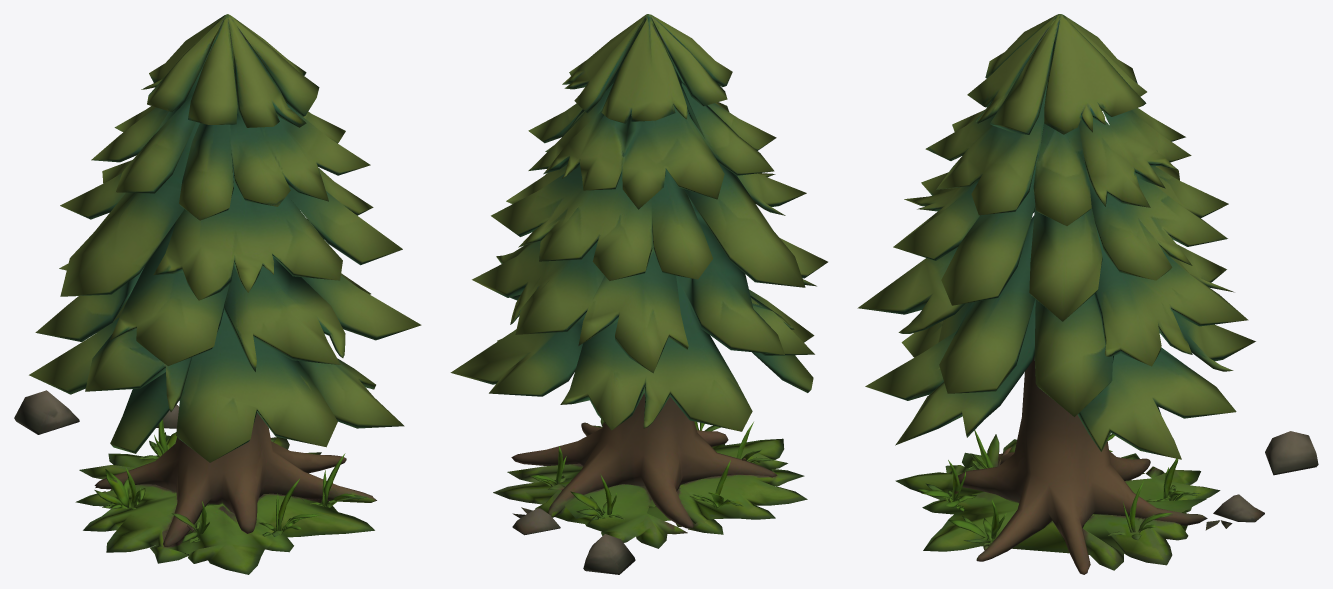
Rendered from SM_Vegetation_StylizedPineTree_01.fbx.
3 renders of one model, left to right at view 1: azimuth 30°, elevation 25°; view 2: azimuth 150°, elevation 25°; view 3: azimuth 270°, elevation 25°, orthographic. The views are drawn at different scales.
Parts seen in each view (by area): view 1: SM_Vegetation_StylizedPineTree_01; view 2: SM_Vegetation_StylizedPineTree_01; view 3: SM_Vegetation_StylizedPineTree_01.
Boxes of the visible parts, x1,y1,x2,y2 form: SM_Vegetation_StylizedPineTree_01: (14, 14, 421, 574); SM_Vegetation_StylizedPineTree_01: (450, 14, 827, 574); SM_Vegetation_StylizedPineTree_01: (857, 14, 1318, 574).
Size of the model in its own units: 0.6816 by 0.998 by 0.8379.
Materials: 1 (1 with a texture image).
